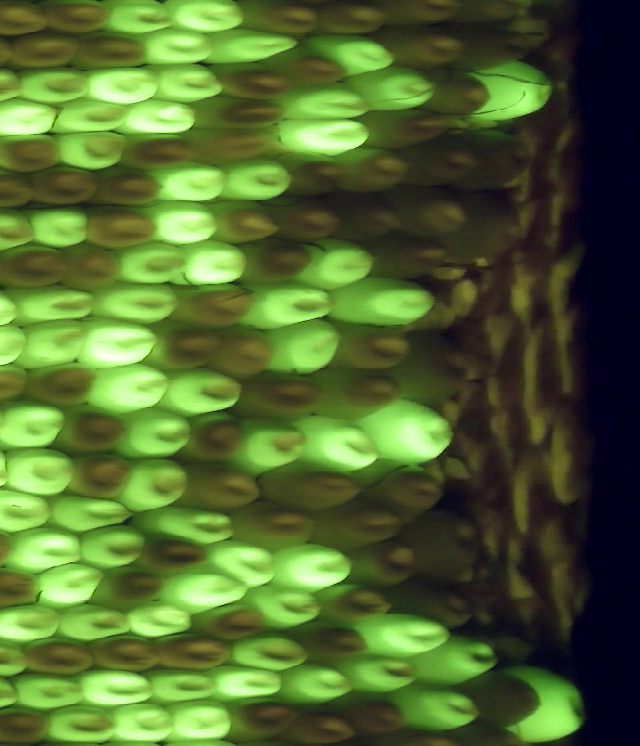fluorescent: (358, 393, 461, 470), (500, 660, 592, 746), (342, 600, 455, 664), (321, 273, 443, 330), (287, 408, 385, 478), (404, 627, 501, 695), (237, 274, 345, 335), (471, 57, 560, 129), (222, 411, 315, 479), (71, 312, 164, 377), (386, 679, 485, 739), (257, 316, 346, 382), (295, 231, 380, 299), (155, 363, 251, 422), (80, 360, 175, 419), (305, 26, 402, 83), (265, 541, 360, 599), (155, 562, 255, 617), (272, 111, 379, 162), (345, 61, 445, 115), (108, 402, 198, 462), (0, 523, 89, 581), (83, 277, 186, 327), (271, 79, 376, 128), (131, 503, 242, 549), (111, 456, 193, 516), (147, 156, 238, 210), (11, 315, 95, 373), (0, 443, 82, 502), (2, 281, 103, 328), (215, 149, 299, 205), (201, 537, 285, 593), (69, 663, 159, 715), (139, 58, 229, 109), (0, 393, 71, 457), (199, 26, 307, 68), (44, 489, 136, 538), (114, 237, 195, 291), (330, 647, 419, 696), (228, 627, 315, 677), (141, 196, 223, 249), (73, 518, 155, 571), (6, 668, 91, 719), (171, 239, 254, 291), (239, 582, 325, 632), (79, 61, 167, 109), (48, 600, 136, 648), (17, 199, 94, 253), (115, 97, 205, 143), (99, 699, 186, 746), (51, 127, 136, 175), (139, 661, 225, 708), (274, 659, 353, 710), (31, 559, 111, 609), (204, 660, 289, 707), (159, 695, 237, 746), (46, 95, 135, 137), (40, 700, 121, 746), (6, 63, 96, 104), (118, 599, 197, 641), (161, 1, 250, 38), (0, 483, 58, 539), (0, 602, 71, 647), (0, 94, 66, 141), (99, 1, 176, 39), (0, 201, 45, 257), (0, 319, 35, 372), (0, 631, 35, 684)
nonfluorescent: (383, 326, 478, 408), (305, 490, 409, 558), (258, 453, 370, 516), (439, 186, 526, 266), (398, 506, 485, 586), (305, 361, 406, 426), (322, 313, 418, 379), (358, 456, 448, 523), (452, 128, 536, 199), (453, 667, 548, 729), (228, 371, 329, 429), (224, 495, 318, 556), (141, 316, 231, 379), (45, 399, 137, 460), (164, 275, 259, 334), (445, 18, 537, 78), (385, 182, 474, 244), (178, 122, 290, 170), (394, 135, 485, 194), (386, 576, 480, 633), (355, 103, 451, 158), (17, 356, 106, 415), (176, 458, 269, 514), (341, 532, 422, 596), (261, 190, 350, 248), (363, 231, 455, 287), (232, 234, 320, 291), (372, 23, 470, 74), (219, 689, 306, 746), (325, 188, 406, 249), (270, 148, 356, 205), (176, 404, 250, 470), (289, 615, 376, 669), (185, 92, 294, 135), (329, 683, 412, 739), (80, 199, 162, 255), (63, 446, 140, 505), (85, 562, 169, 615), (16, 630, 101, 682), (205, 58, 297, 106), (417, 64, 495, 120), (148, 629, 238, 677), (332, 148, 416, 199), (24, 161, 106, 213), (84, 627, 166, 679), (208, 196, 288, 249), (135, 531, 218, 582), (52, 237, 125, 294), (261, 45, 355, 89), (205, 325, 279, 380), (86, 162, 169, 211), (189, 600, 272, 648), (0, 238, 75, 291), (113, 129, 196, 176), (230, 1, 326, 38), (0, 129, 70, 179), (307, 1, 395, 40), (283, 702, 360, 746), (33, 1, 115, 38), (365, 1, 469, 30), (0, 700, 56, 746), (0, 563, 45, 614), (447, 1, 528, 29), (0, 165, 44, 213), (0, 1, 53, 39), (0, 359, 39, 408)
